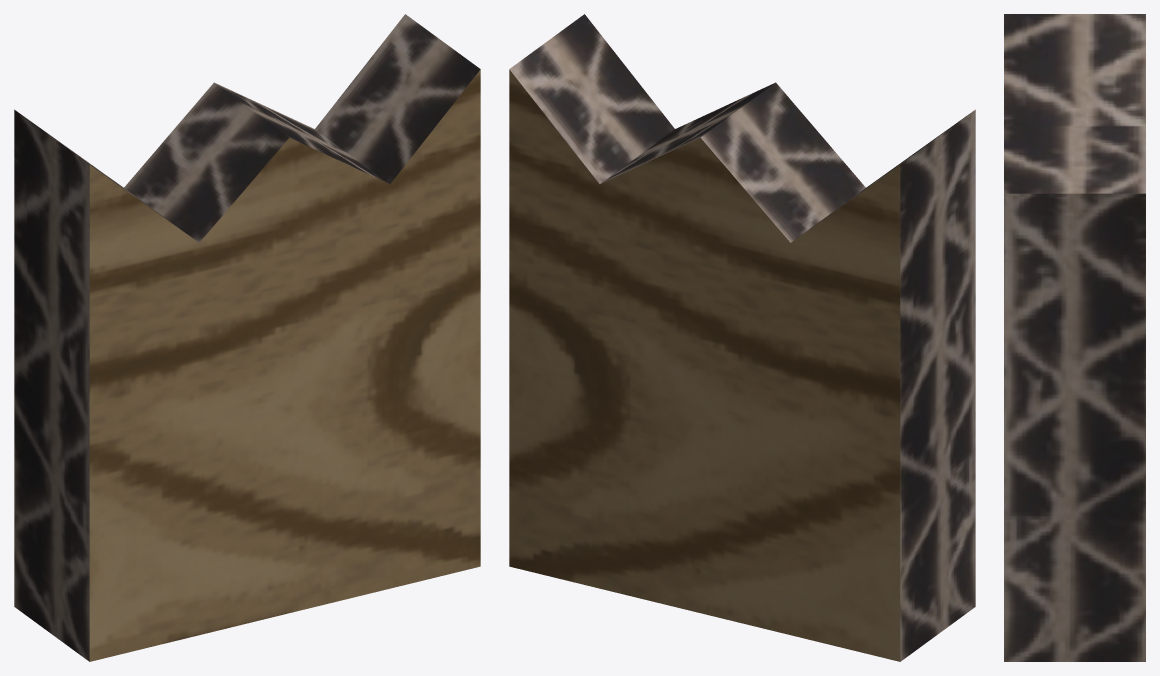
File: G_Brückenparticle.fbx
3 views of the same model, side by side, from view 1: azimuth 30°, elevation 25°; view 2: azimuth 150°, elevation 25°; view 3: azimuth 270°, elevation 25° (orthographic). The views are drawn at different scales.
Visible parts, largest first — view 1: Breakingparticle; view 2: Breakingparticle; view 3: Breakingparticle.
Boxes of the visible parts, x1,y1,x2,y2 form: Breakingparticle: (14, 14, 480, 661); Breakingparticle: (509, 14, 975, 661); Breakingparticle: (1004, 14, 1145, 661).
Bounding box in the file's own units: 0.2615 × 0.3179 × 0.0873.
